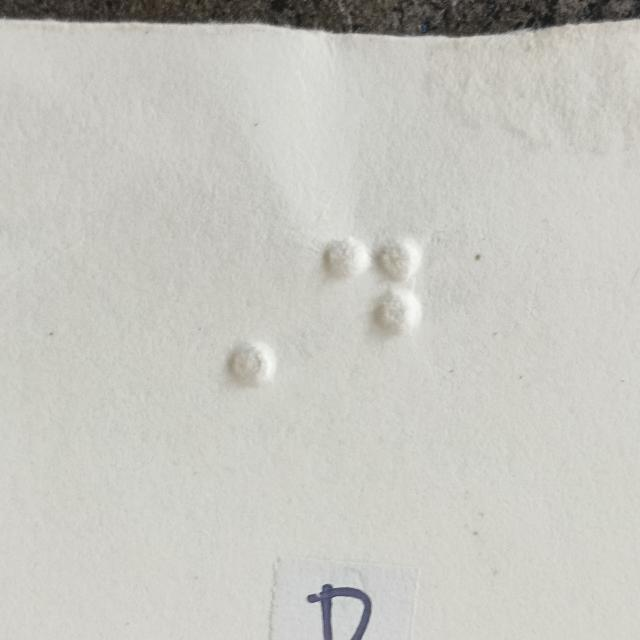capital_sign: (181, 241, 278, 391)
letter_D: (322, 240, 419, 390)
